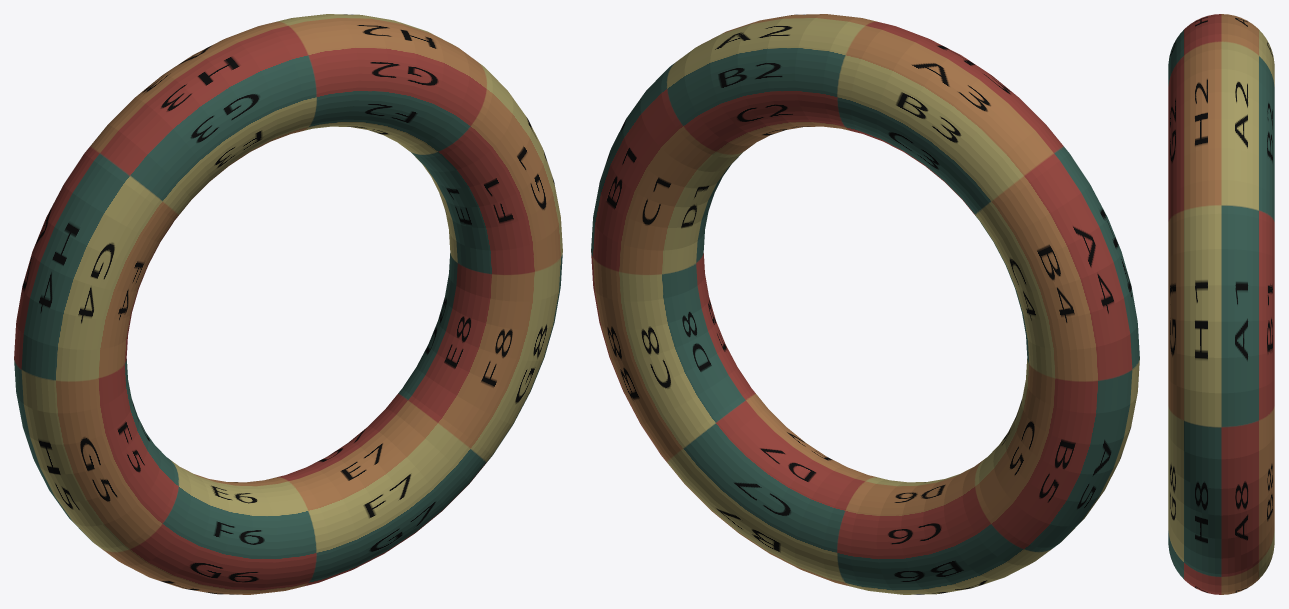
Rendered from texture_torus_R27_r16.glb.
The picture shows the model from 3 angles, left to right: view 1: azimuth 30°, elevation 25°; view 2: azimuth 150°, elevation 25°; view 3: azimuth 270°, elevation 25°; orthographic projection. The views are drawn at different scales.
Parts seen in each view (by area): view 1: world; view 2: world; view 3: world.
Boxes of the visible parts, left/top/right/bottom form: world: left=14, top=14, right=562, bottom=594; world: left=591, top=14, right=1139, bottom=594; world: left=1168, top=14, right=1274, bottom=594.
Size of the model in its own units: 34.27 by 34.2 by 6.25.
1 material, 1 textured.
